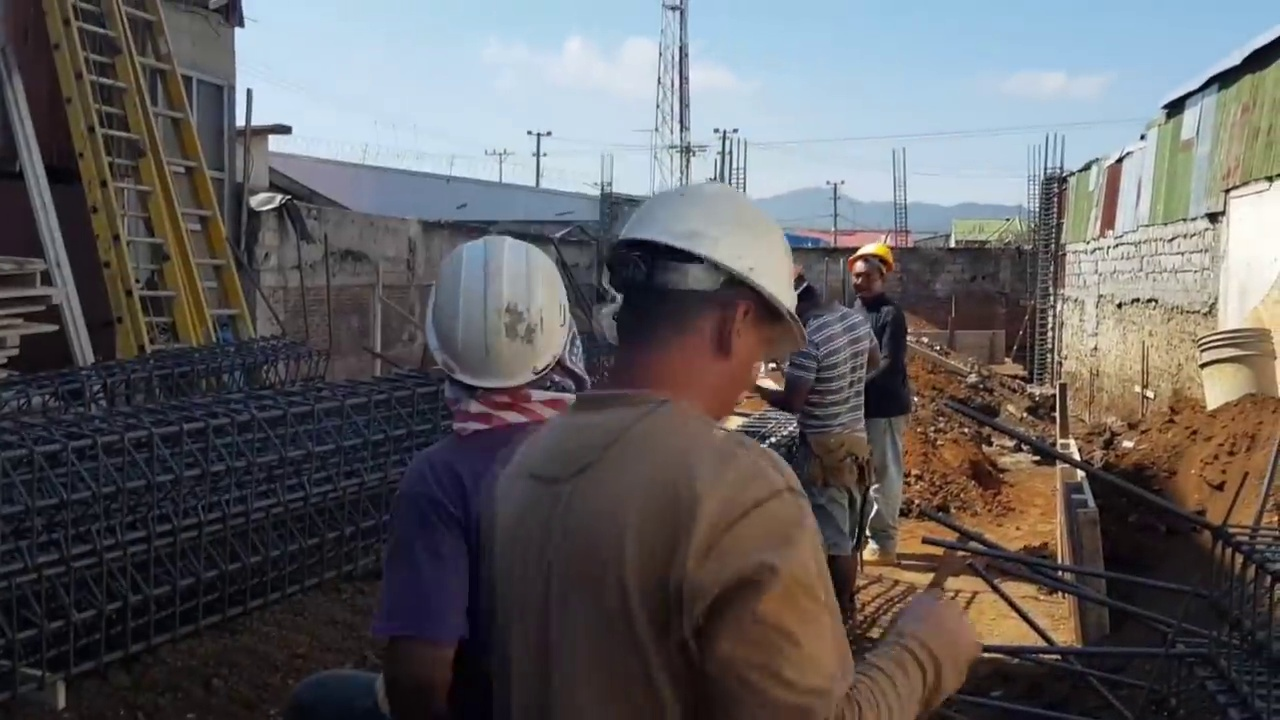helmet: (612, 174, 809, 354), (424, 232, 571, 388), (850, 241, 896, 274), (784, 260, 809, 293)
helmet-on: (572, 170, 812, 430), (422, 230, 573, 435), (848, 242, 897, 306), (783, 265, 831, 330)
person: (500, 169, 988, 720), (370, 228, 591, 716), (780, 254, 882, 632), (839, 238, 911, 567)
